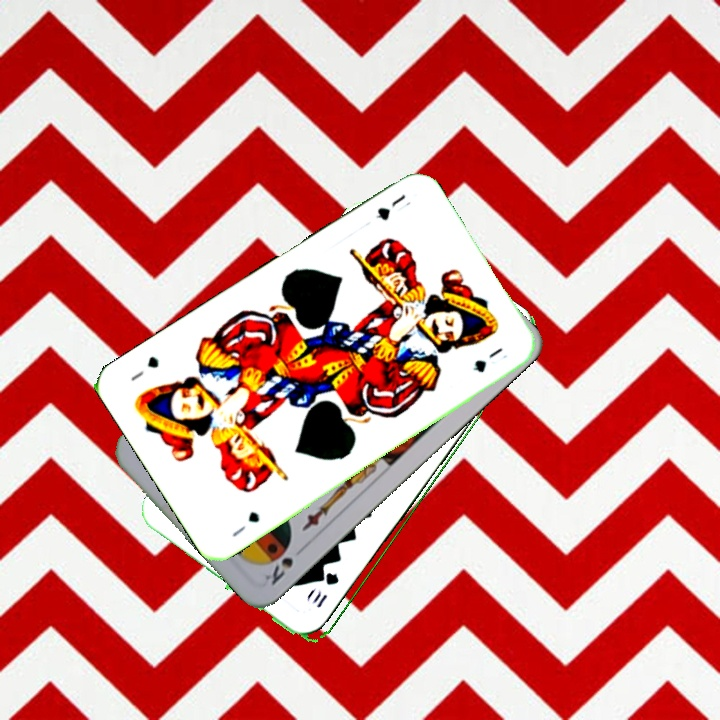G10: (308, 568, 342, 611)
GU: (372, 190, 414, 223), (228, 507, 262, 540)
SK: (260, 539, 296, 588)
